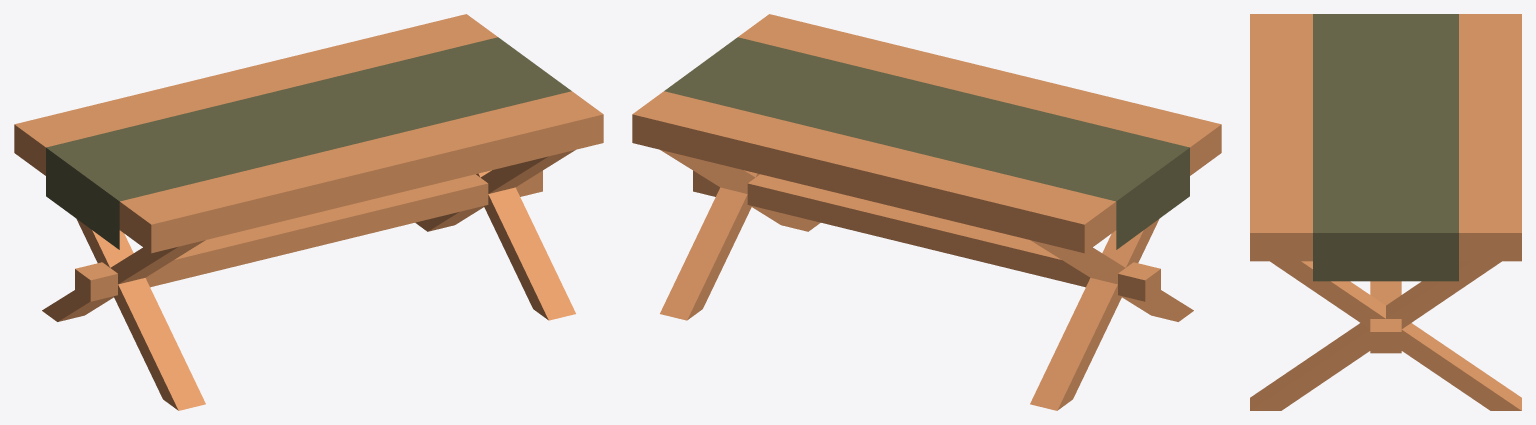
Rendered from Crosscloth_table.glb.
3 views of the same model, side by side, from view 1: azimuth 30°, elevation 25°; view 2: azimuth 150°, elevation 25°; view 3: azimuth 270°, elevation 25° (orthographic).
Visible parts, largest first — view 1: tableCrossCloth; view 2: tableCrossCloth; view 3: tableCrossCloth.
Part boxes in pixels (bbox=[...]): tableCrossCloth: bbox=[14, 14, 603, 410]; tableCrossCloth: bbox=[632, 14, 1221, 410]; tableCrossCloth: bbox=[1250, 14, 1521, 410].
Size of the model in its own units: 0.8521 by 0.3474 by 0.4474.
